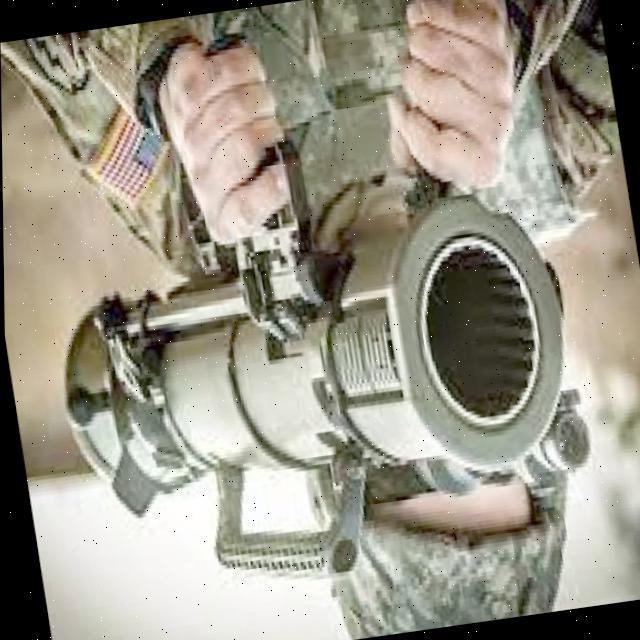rocket: (27, 160, 640, 616)
